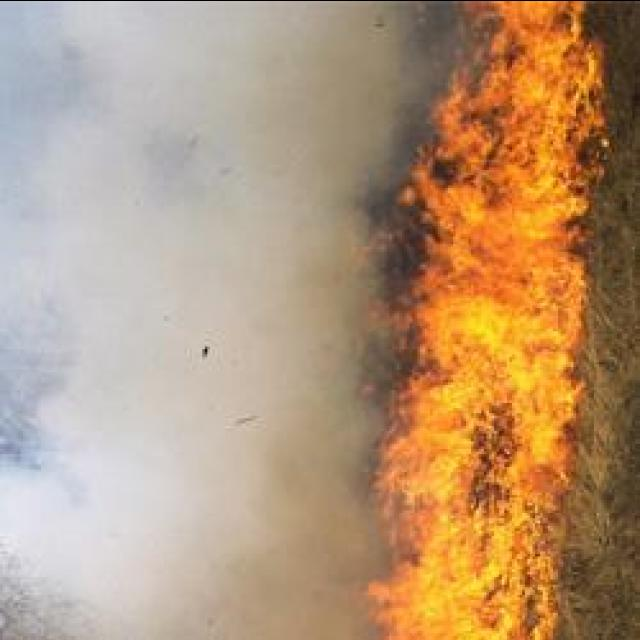fire: (377, 525, 555, 640), (457, 199, 551, 279), (448, 282, 528, 356), (408, 392, 460, 457), (512, 51, 570, 109)
smoke: (38, 353, 215, 523), (1, 462, 174, 634), (32, 112, 212, 274), (183, 30, 385, 172), (152, 511, 346, 640), (214, 237, 366, 399)
